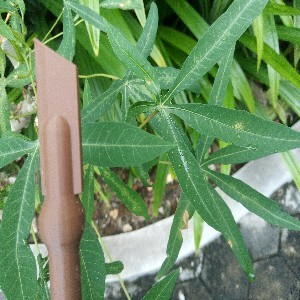cutter: (32, 35, 86, 300)
